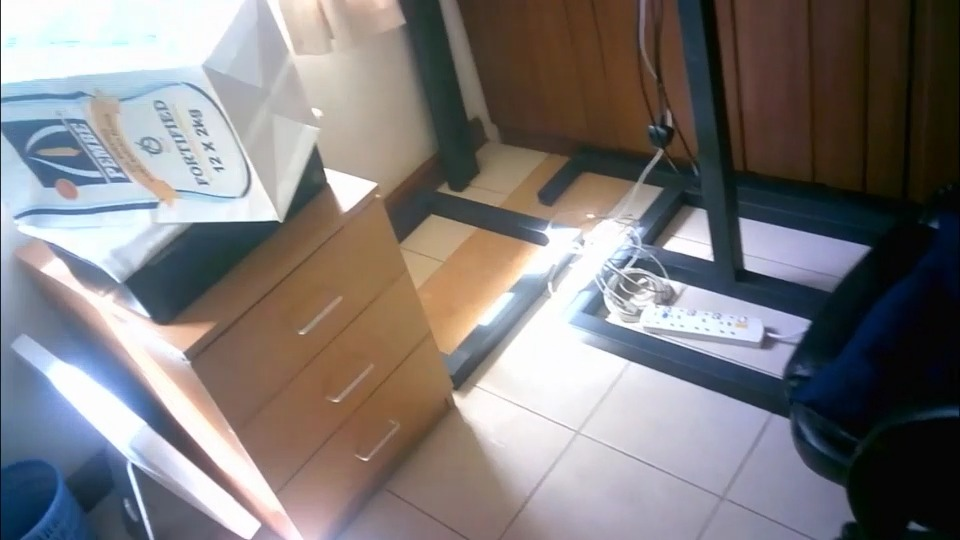wheat_flour_blue_label: (6, 0, 320, 219)
